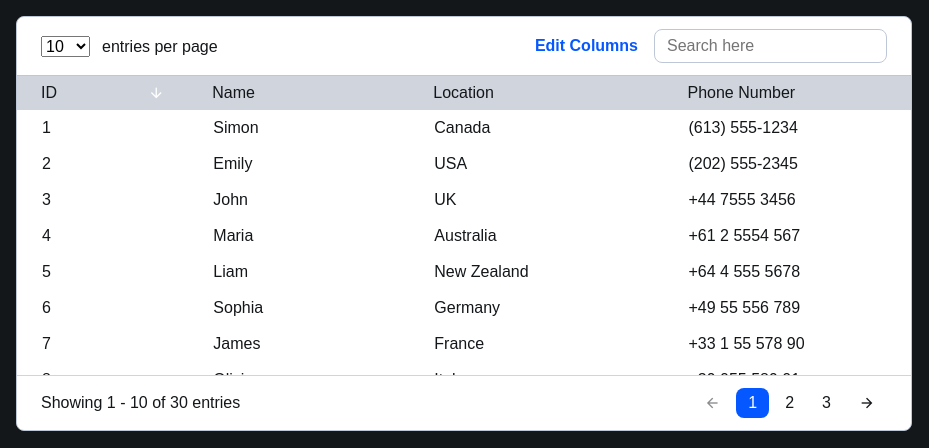
Scenario: Page search - should update rows to 1 and display only row matching search term
This screenshot has width=929, height=448.
Type "Chloe" into the field. click: (770, 46)
box: [654,29,887,63]
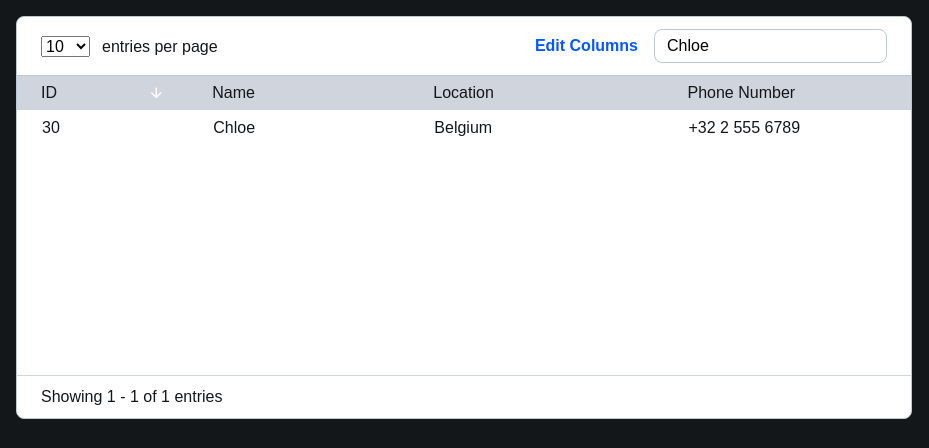
expect the text "Chloe" is shown: met, box [213,119,255,136]
